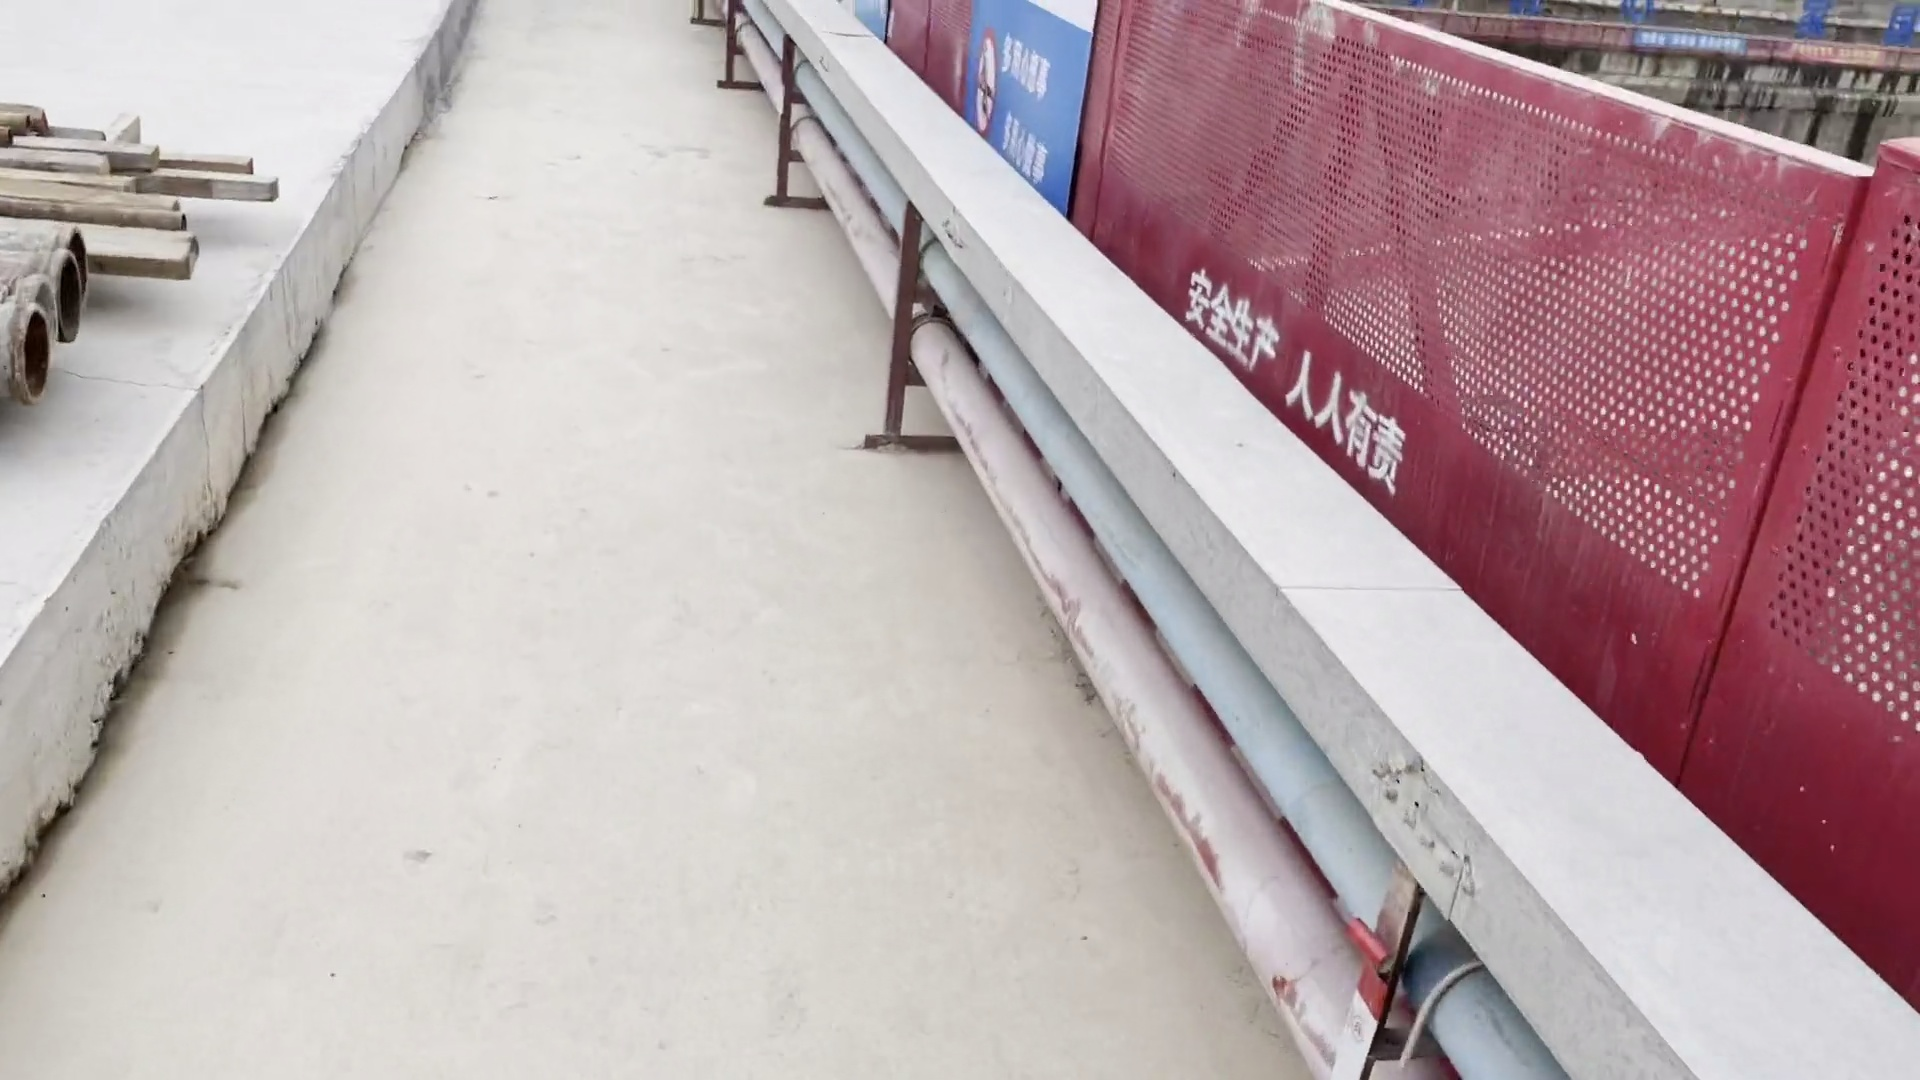fence: (837, 4, 1600, 731), (1586, 86, 1919, 1019)
slogan: (949, 3, 1112, 247), (1629, 20, 1754, 66), (1787, 41, 1891, 73), (849, 3, 910, 57)
wood: (1, 84, 309, 277)
